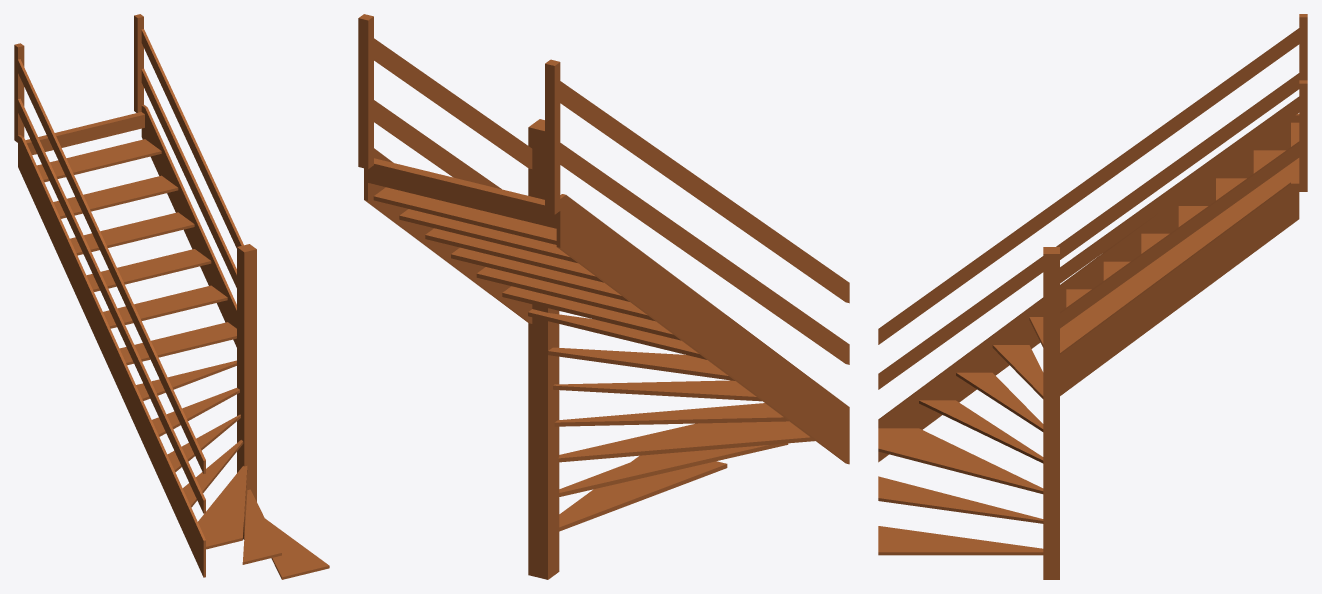
File: stairs.fbx
3 views of the same model, side by side, from view 1: azimuth 30°, elevation 25°; view 2: azimuth 150°, elevation 25°; view 3: azimuth 270°, elevation 25° (orthographic). The views are drawn at different scales.
Visible parts, largest first — view 1: Group1, Group5, Group6, Group2, Group3, Group4, Group7, Group8; view 2: Group1, Group5, Group6, Group3, Group2, Group7, Group8, Group4; view 3: Group1, Group6, Group2, Group5, Group3, Group4, Group7, Group8.
Part boxes in pixels (x1,y1,x2,y2): Group1: (22,112,329,579); Group5: (18,135,205,577); Group6: (18,59,205,513); Group2: (141,104,236,347); Group3: (141,29,243,248); Group4: (141,68,236,287); Group7: (134,14,143,112); Group8: (14,43,24,142); Group1: (368,119,849,579); Group5: (556,194,849,464); Group6: (560,81,849,364); Group3: (374,38,532,168); Group2: (364,148,532,323); Group7: (358,14,373,169); Group8: (545,59,560,214); Group4: (374,100,501,189); Group1: (878,122,1299,579); Group6: (878,28,1299,389); Group2: (1060,182,1299,395); Group5: (878,113,1299,462); Group3: (1060,96,1299,283); Group4: (1060,141,1299,328); Group7: (1299,80,1307,191); Group8: (1299,14,1307,80).
Bounding box in the file's own units: 1 × 3.32 × 2.6.
